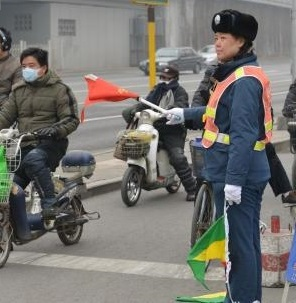person: (162, 10, 275, 303), (1, 46, 82, 215), (122, 66, 204, 197), (1, 28, 21, 98)
